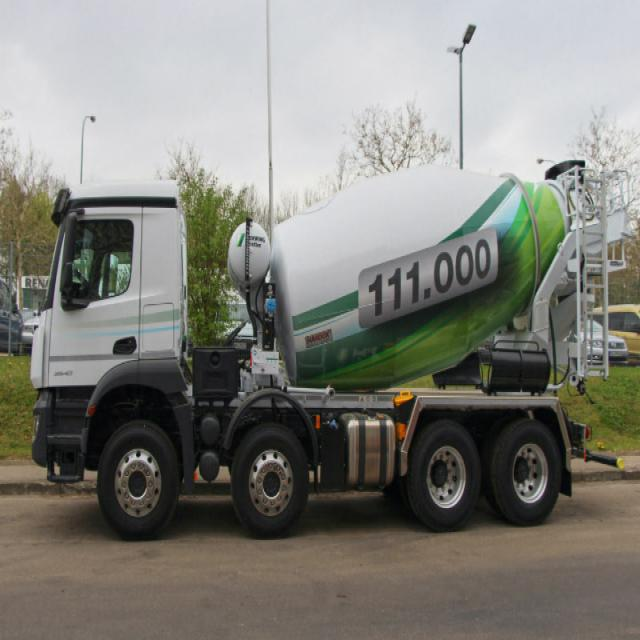truck: (30, 165, 629, 538)
